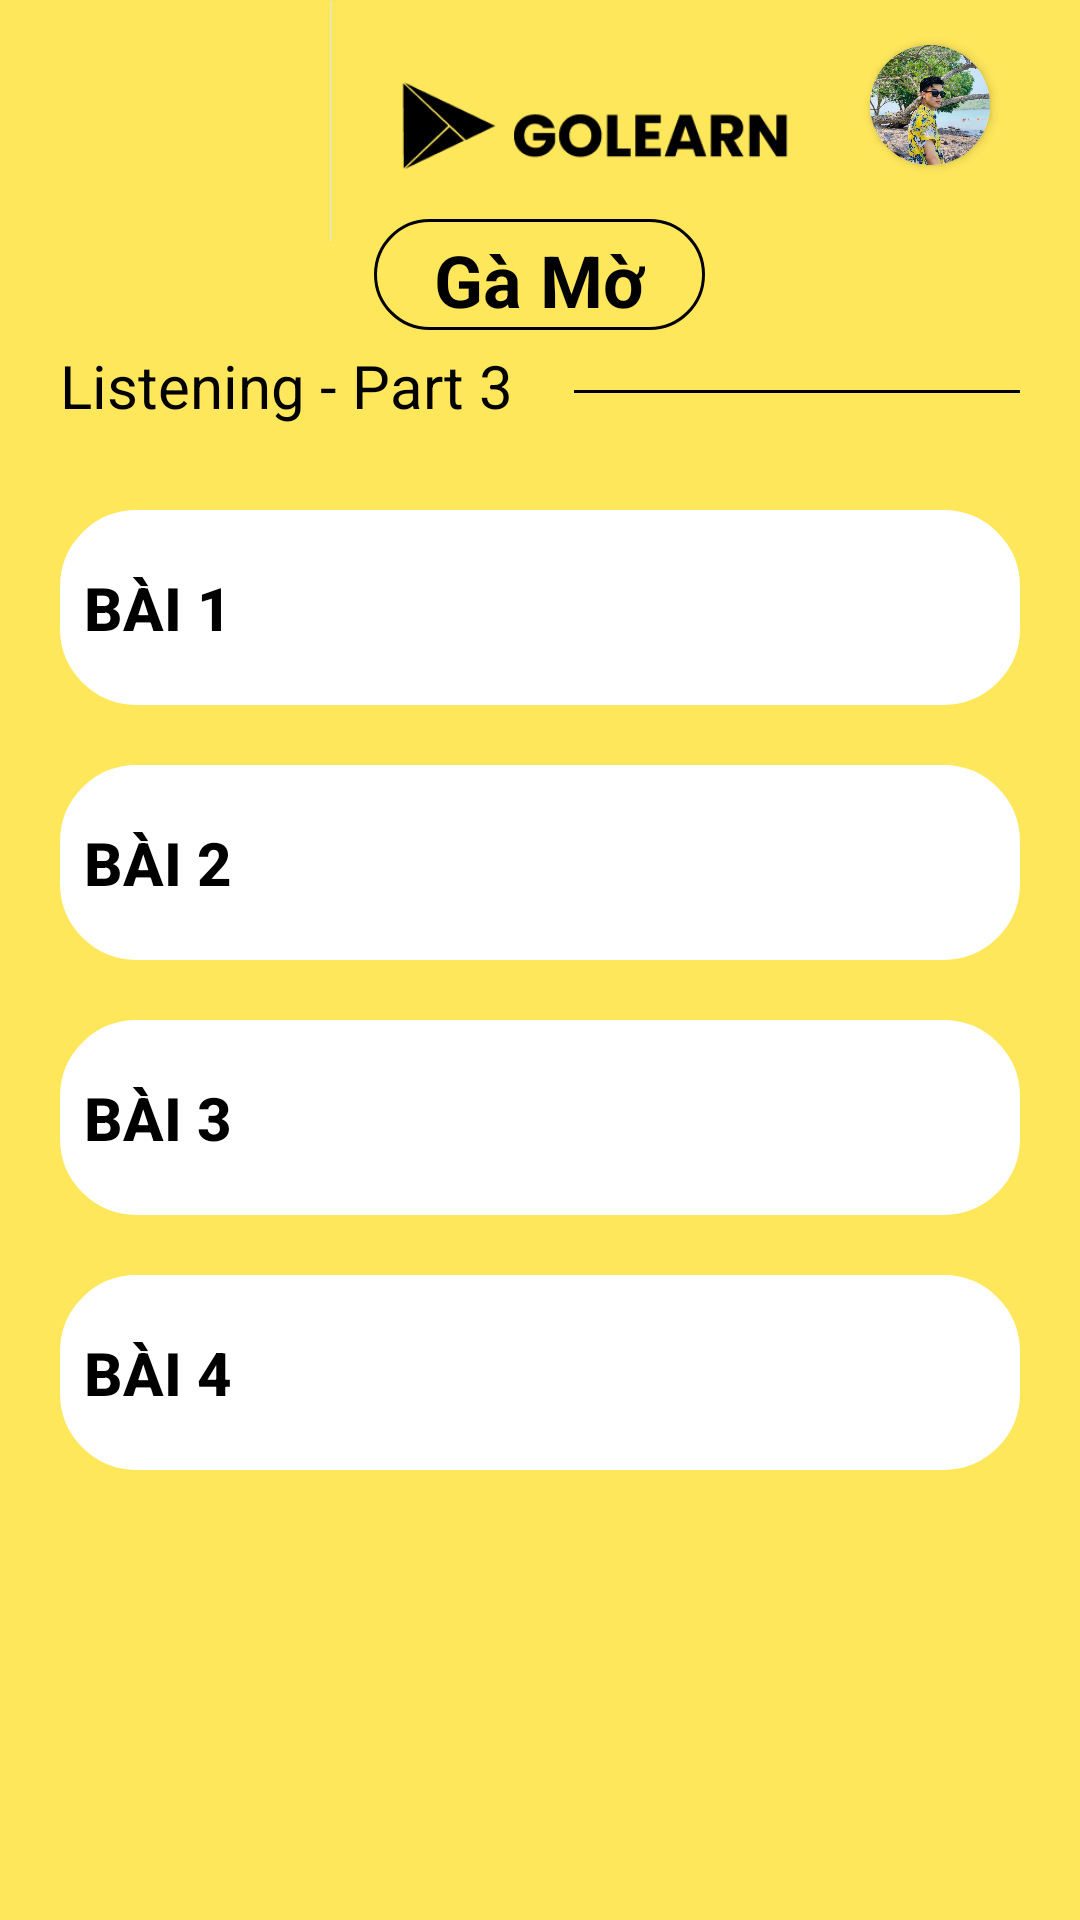

Where icons sit on this 1080w x 1920h app screen, as (x1, y1, x2, y2):
avt: (870, 45, 990, 165)
